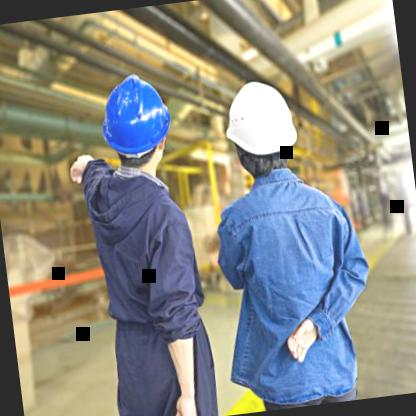helmet: (204, 73, 307, 195), (94, 62, 192, 190)
